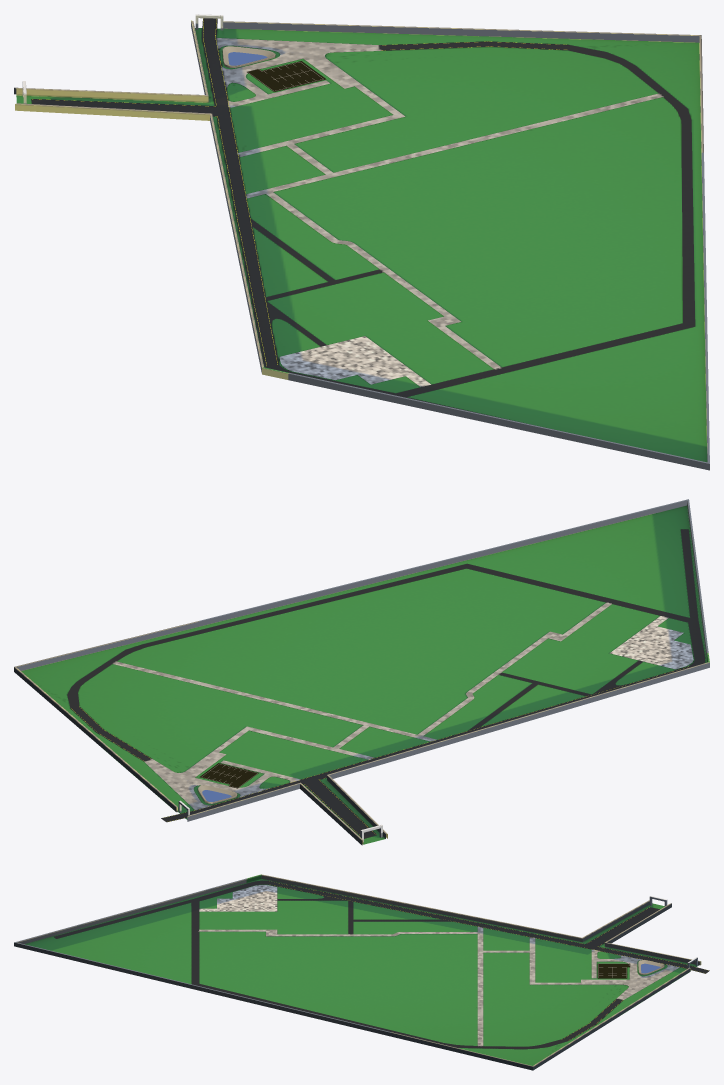
3 views of the same model, one above another, from view 1: azimuth 30°, elevation 25°; view 2: azimuth 150°, elevation 25°; view 3: azimuth 270°, elevation 25° (orthographic). The views are drawn at different scales.
Visible parts, largest first — view 1: Ground.002, parking; view 2: Ground.002, parking; view 3: Ground.002, parking.
Boxes of the visible parts, x1,y1,x2,y2 form: Ground.002: [14, 18, 709, 470]; parking: [247, 61, 326, 91]; Ground.002: [14, 499, 709, 845]; parking: [199, 763, 258, 788]; Ground.002: [14, 874, 709, 1070]; parking: [597, 963, 630, 978].
Size of the model in its own units: 499 by 12.45 by 763.
3 materials, 3 textured.
